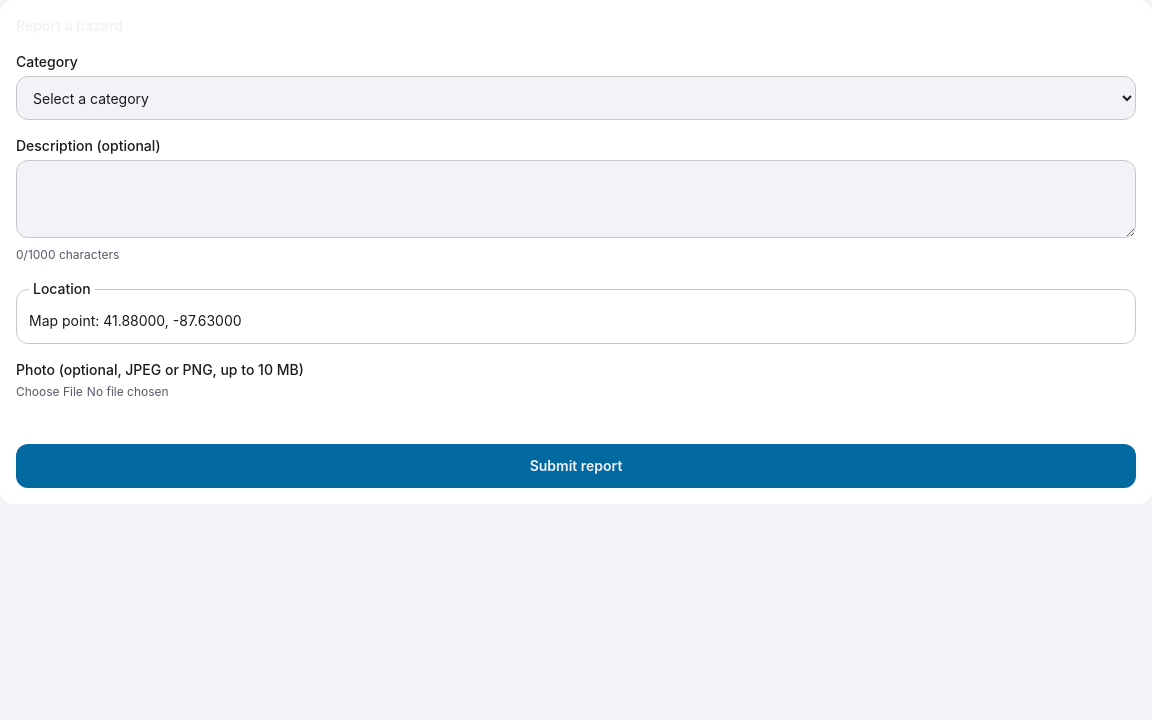
Scenario: ReportForm › displays field errors from the API error envelope
Select "flooding" in the dropdown labelled "Category" at x=576, y=98, box [16, 76, 1136, 120]
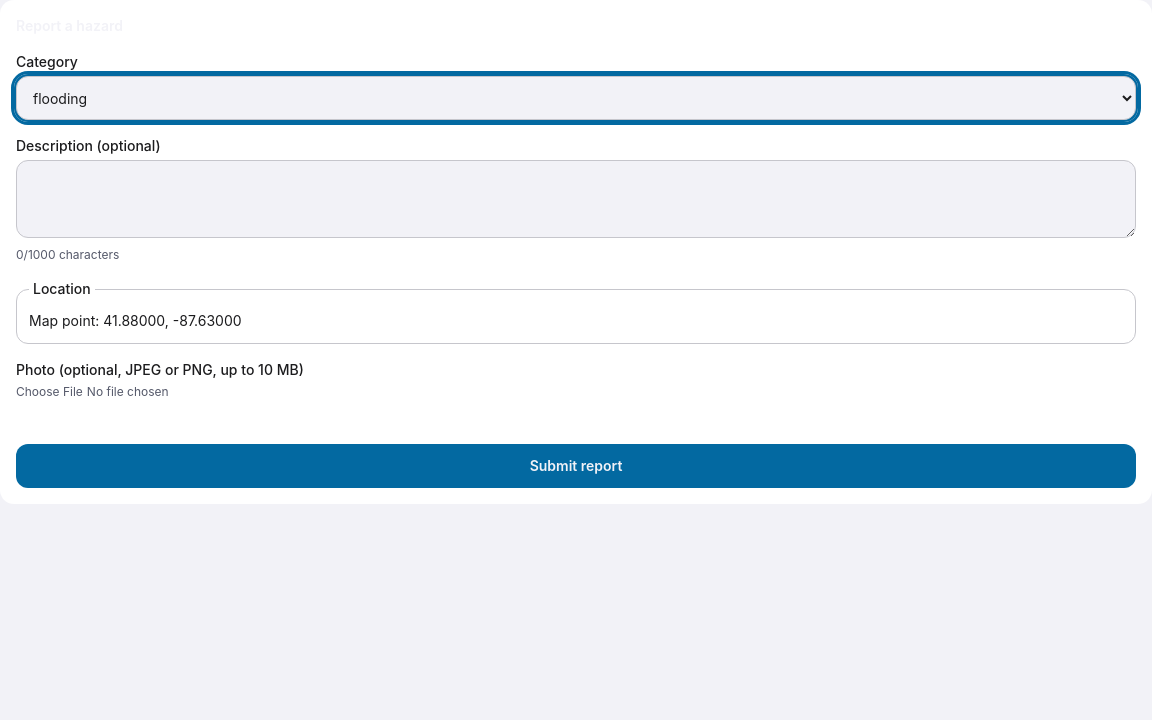
Click the button "Submit report" at x=576, y=466, box [16, 444, 1136, 488]
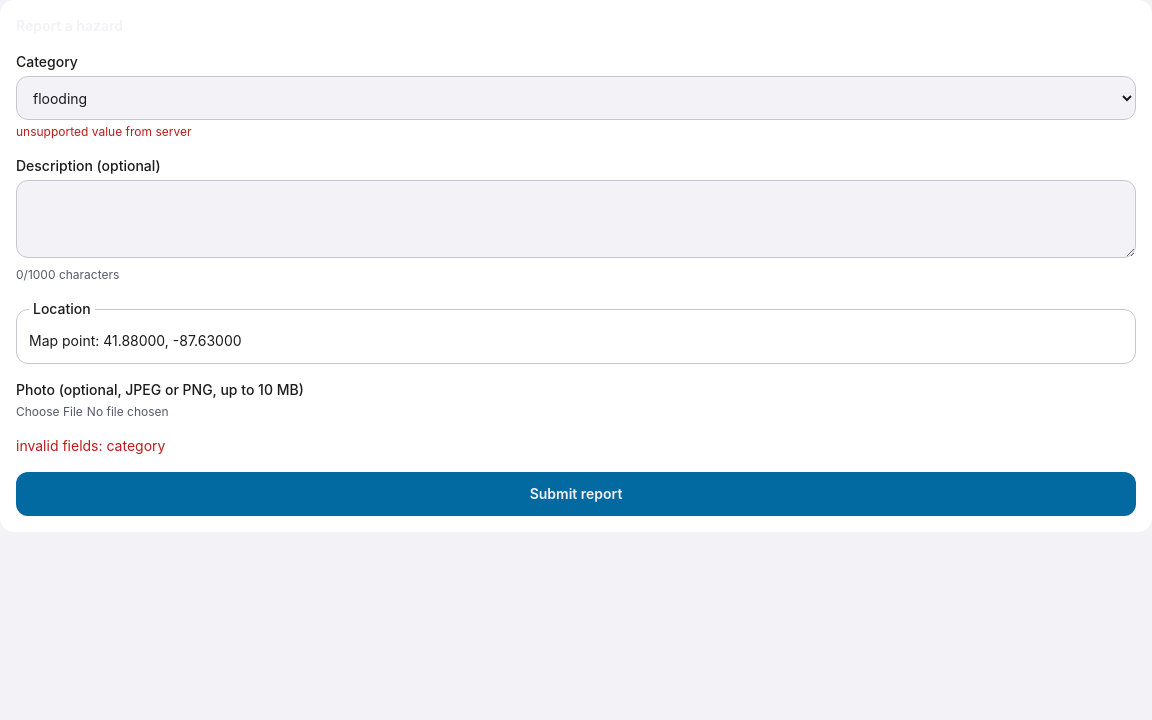
Expected: the text "unsupported value from server" is shown, [16, 124, 191, 139]
Expected: the message reads "invalid fields: category", [16, 437, 165, 454]
